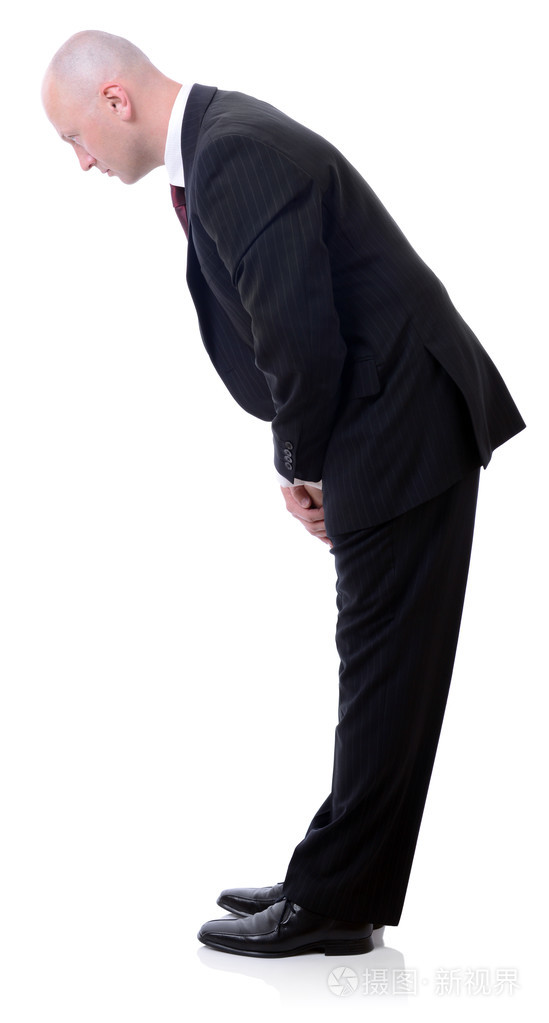bending: (23, 18, 525, 973)
